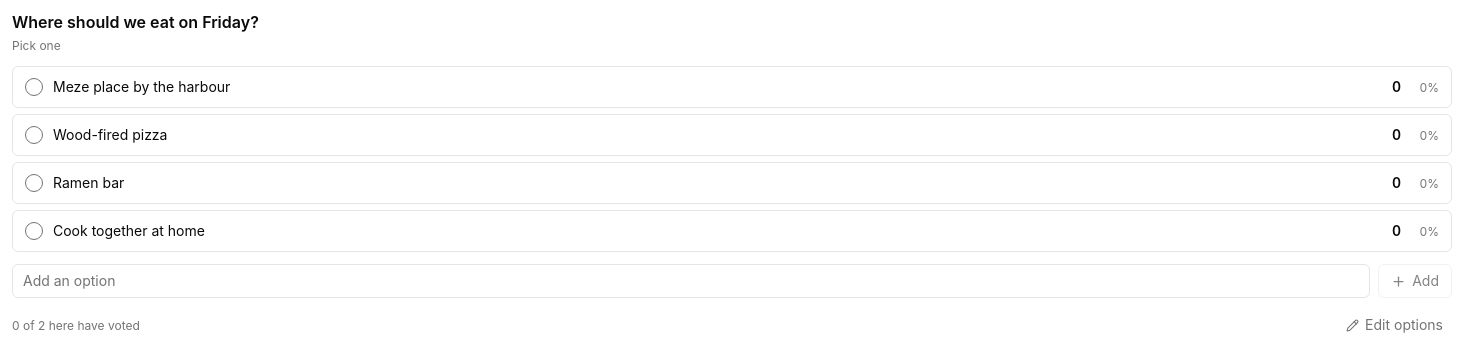
Test: Poll › votes, changes the vote and retracts it
The width and height of the screenshot is (1464, 357).
Click the radio button labelled "Wood-fired pizza 0 0%": coordinates (110, 135) [12,114,1452,156]
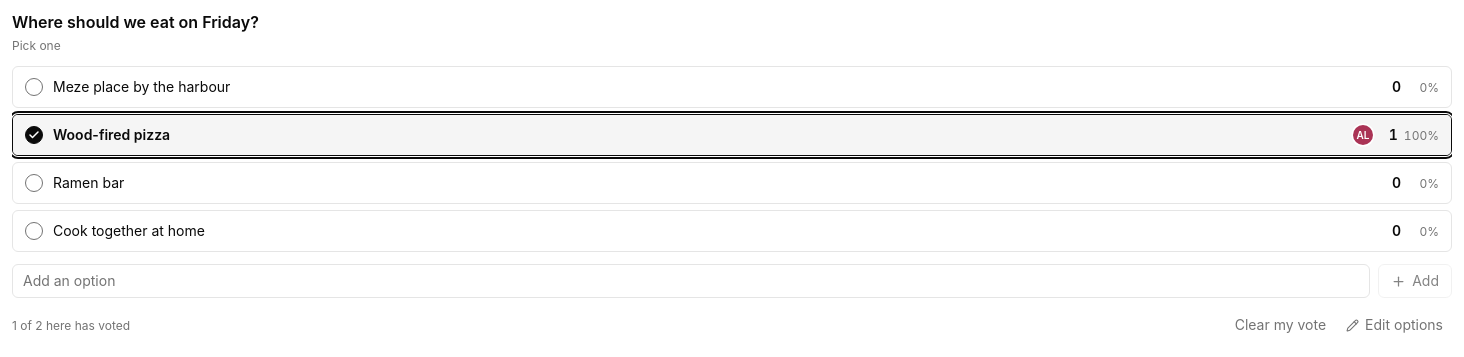
expect the text "1 of 2 here has voted" is shown: met, box [12,317,130,334]
Click the radio button labelled "Ramen bar 0 0%": coordinates (89, 183) [12,162,1452,204]
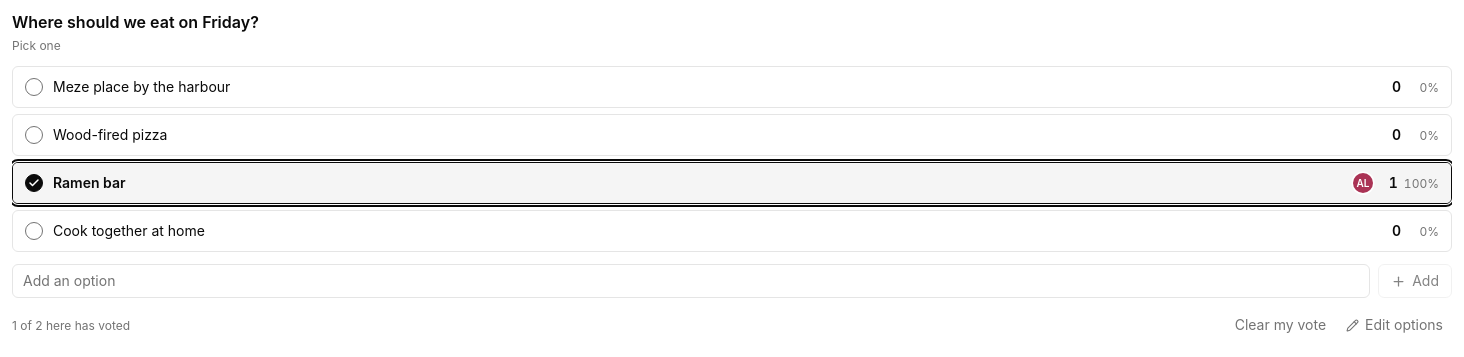
Click the button "Clear my vote": coordinates (1280, 326) [1226,310,1335,341]
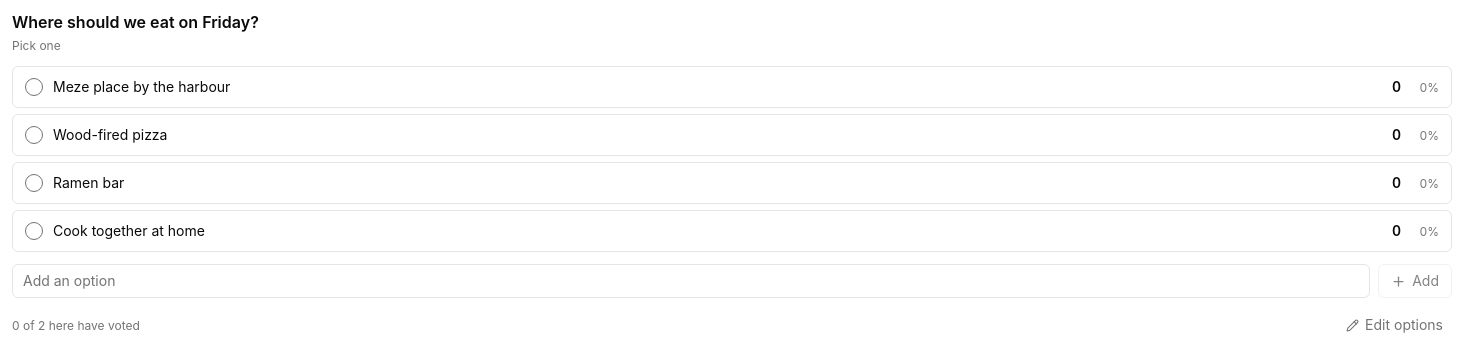
expect the text "0 of 2 here have voted" is shown: met, box [12,317,140,334]
